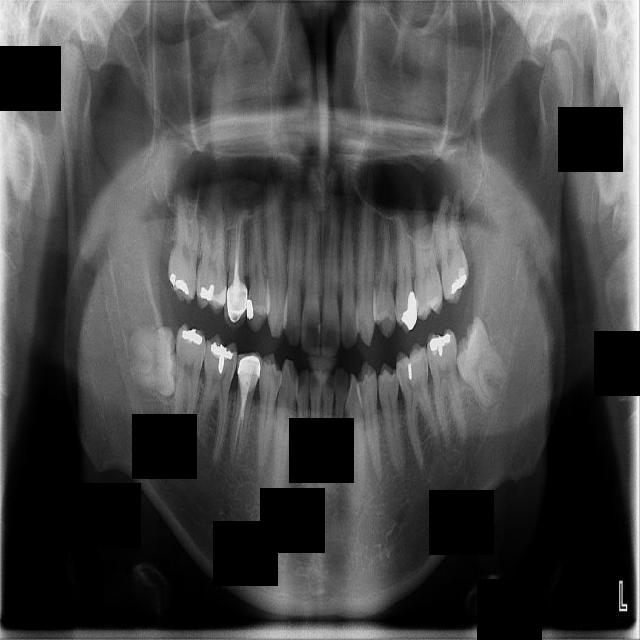52: (194, 330, 247, 382), (434, 250, 476, 305), (421, 326, 461, 374), (163, 255, 199, 306), (395, 342, 429, 393), (300, 293, 324, 358), (173, 324, 210, 363), (193, 273, 228, 314), (412, 281, 445, 321), (245, 288, 272, 333), (223, 283, 248, 331), (236, 350, 262, 392), (394, 290, 418, 334)
73: (228, 376, 259, 468), (226, 211, 250, 292)
BioHorizons Implant: (431, 189, 472, 306)
Biomet 3i Implant: (439, 313, 518, 414)
Blue Sky Bio Implant: (424, 327, 468, 449)
Caries: (164, 173, 205, 307)
Implant: (170, 322, 207, 451)
Keystone Dental Implant: (129, 323, 179, 400)
